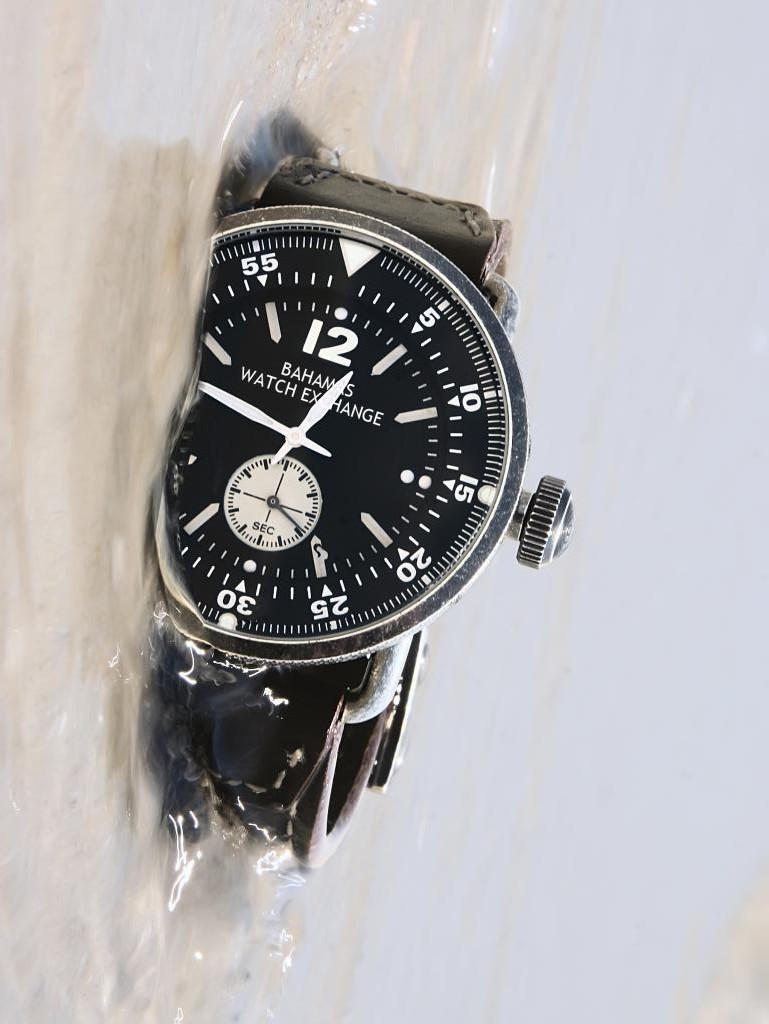clock: (121, 205, 533, 663)
